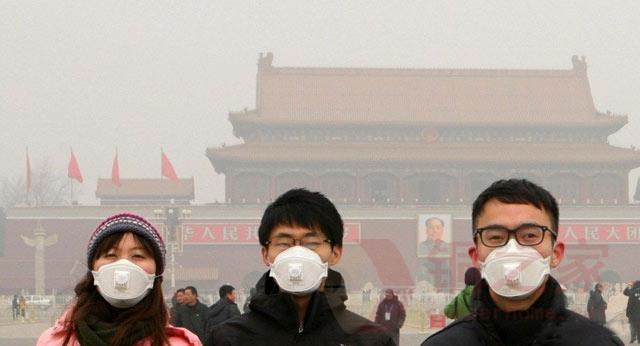car: (16, 294, 53, 311)
person: (416, 177, 625, 346), (203, 186, 401, 345), (32, 211, 205, 346), (443, 265, 493, 342), (203, 284, 243, 346), (170, 285, 210, 346), (374, 288, 408, 346), (163, 288, 196, 346), (586, 283, 608, 341), (242, 287, 265, 342), (622, 279, 640, 345), (18, 295, 27, 319), (12, 294, 18, 320)
